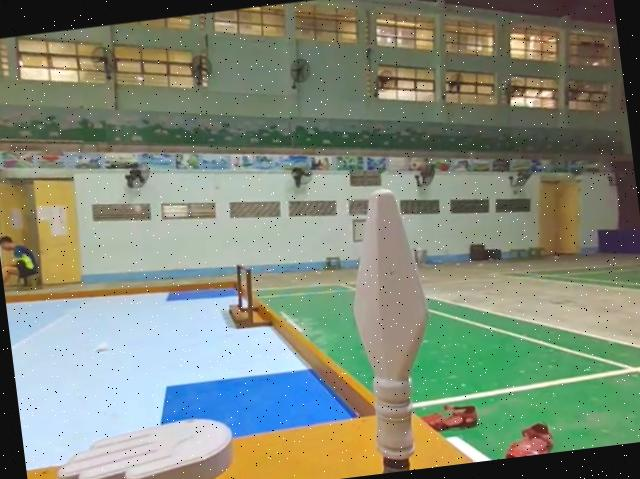Hand: (49, 407, 239, 479)
Sph: (330, 183, 452, 476)
